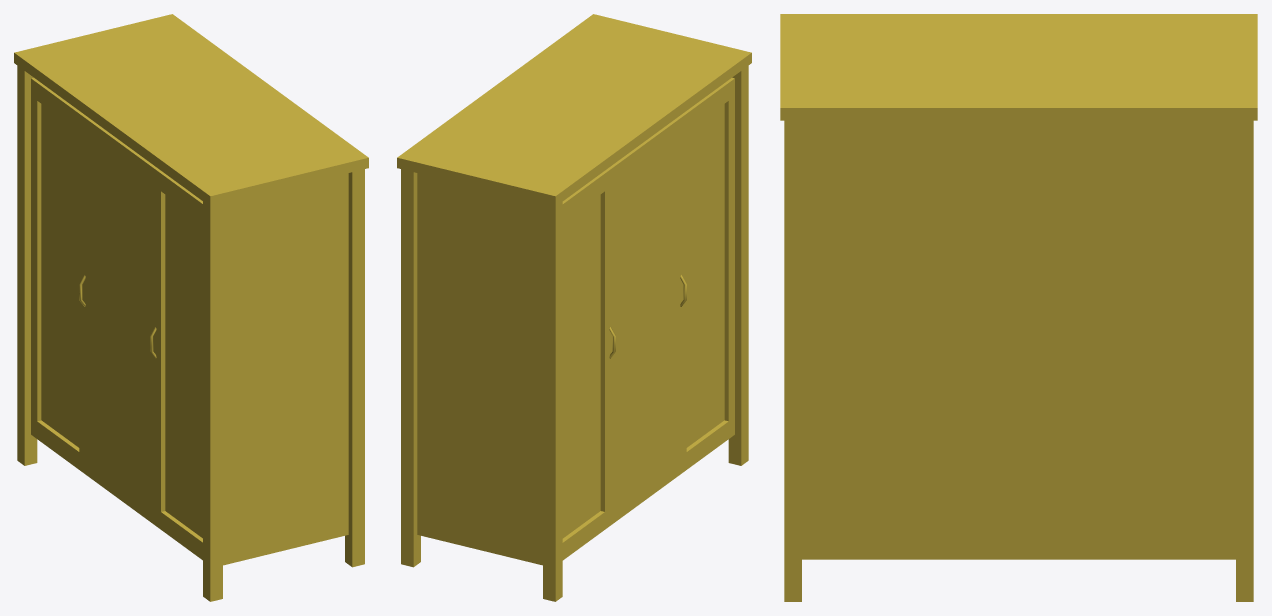
File: Brusli.fbx
The picture shows the model from 3 angles, left to right: view 1: azimuth 30°, elevation 25°; view 2: azimuth 150°, elevation 25°; view 3: azimuth 270°, elevation 25°; orthographic projection. The views are drawn at different scales.
Parts seen in each view (by area): view 1: Brusli; view 2: Brusli; view 3: Brusli.
Boxes of the visible parts, x1=… form: Brusli: x1=14, y1=14, x2=368, y2=601; Brusli: x1=397, y1=14, x2=751, y2=601; Brusli: x1=780, y1=14, x2=1257, y2=601.
Bounding box in the file's own units: 206 × 506 × 442.
